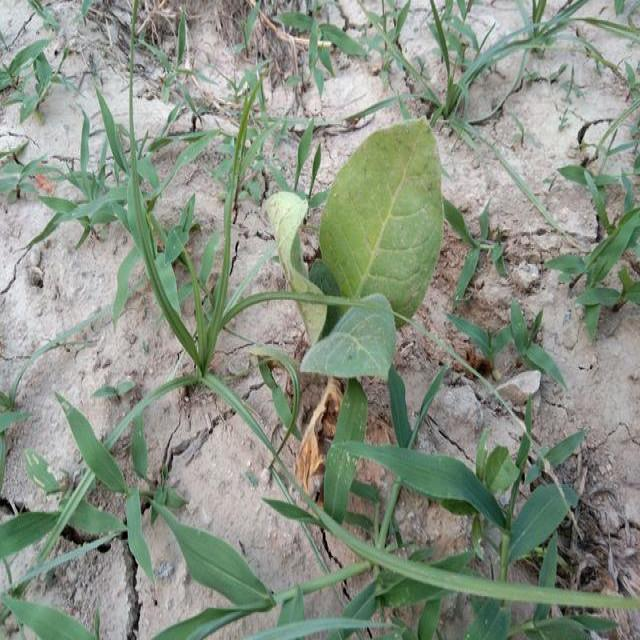crop: (270, 115, 442, 382)
